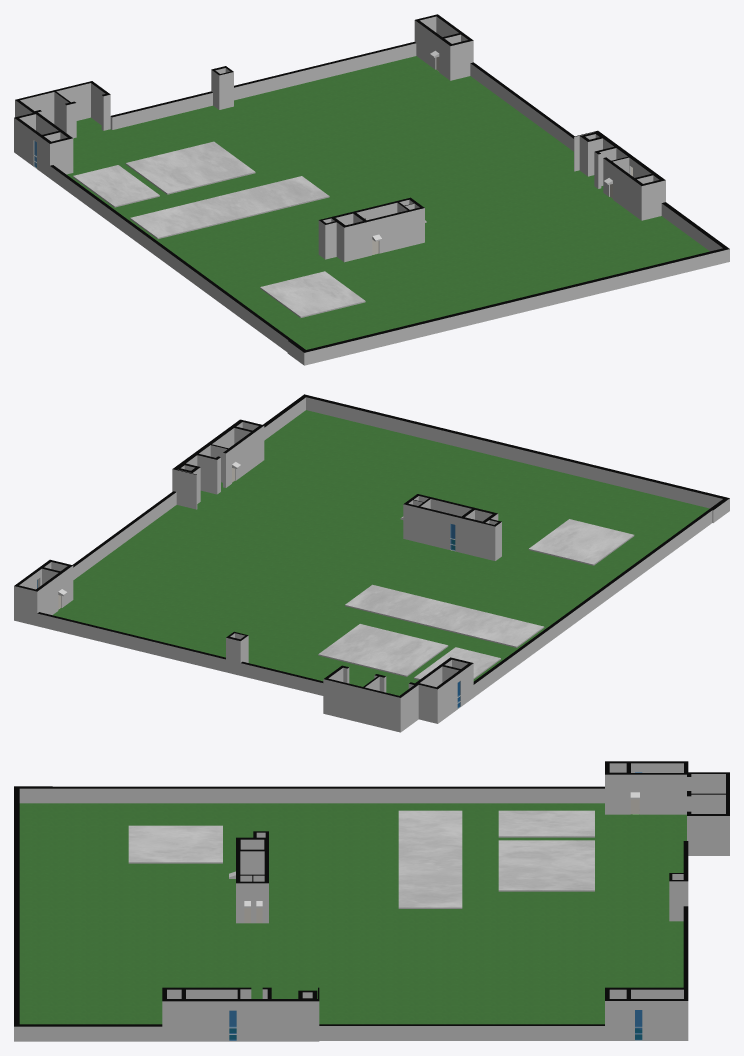
The picture shows the model from 3 angles, top to bottom: view 1: azimuth 30°, elevation 25°; view 2: azimuth 150°, elevation 25°; view 3: azimuth 270°, elevation 25°; orthographic projection. The views are drawn at different scales.
Visible parts, largest first — view 1: S_F1_RF_바닥, S_F1_RF_벽; view 2: S_F1_RF_바닥, S_F1_RF_벽; view 3: S_F1_RF_바닥, S_F1_RF_벽, S_F1_RF_창문, S_F1_RF_방화문.
Boxes of the visible parts, x1=… form: S_F1_RF_바닥: x1=36, y1=56, x2=709, y2=349; S_F1_RF_벽: x1=14, y1=14, x2=729, y2=365; S_F1_RF_바닥: x1=52, y1=410, x2=709, y2=695; S_F1_RF_벽: x1=14, y1=394, x2=729, y2=732; S_F1_RF_바닥: x1=19, y1=803, x2=686, y2=1039; S_F1_RF_벽: x1=14, y1=761, x2=729, y2=1041; S_F1_RF_창문: x1=228, y1=772, x2=642, y2=1041; S_F1_RF_방화문: x1=229, y1=799, x2=639, y2=1028.
Size of the model in its own units: 69.4 by 5.4 by 87.35.
Materials: 6 (2 with a texture image).
